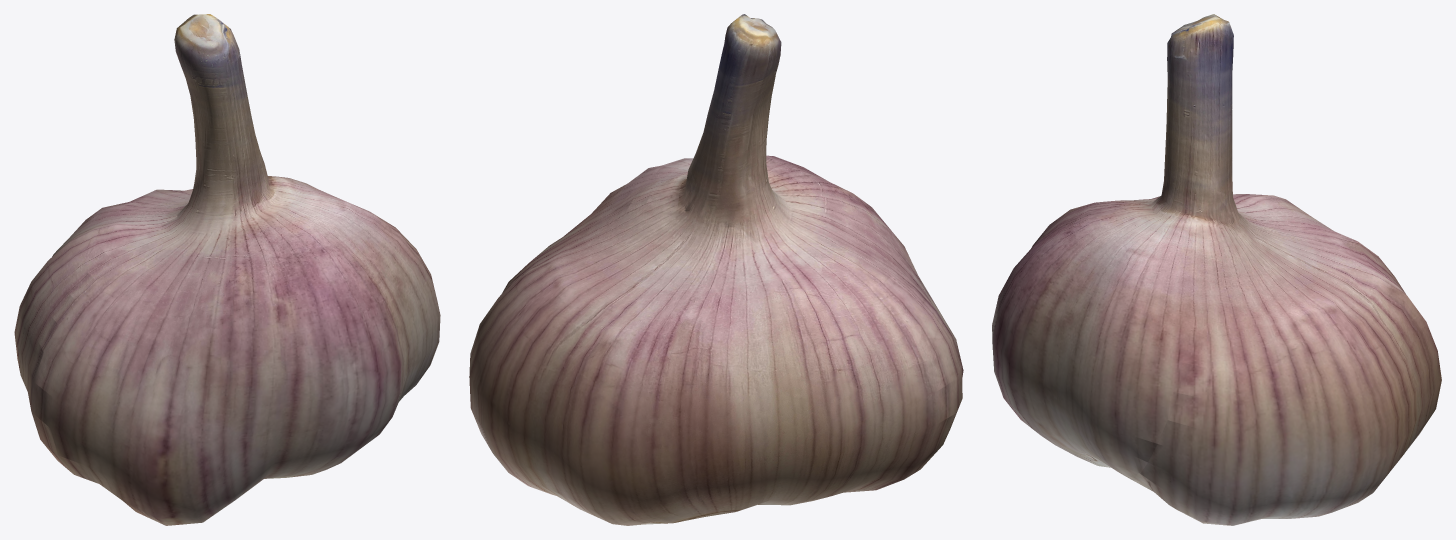
Rendered from Garlic.fbx.
3 views of the same model, side by side, from view 1: azimuth 30°, elevation 25°; view 2: azimuth 150°, elevation 25°; view 3: azimuth 270°, elevation 25° (orthographic). The views are drawn at different scales.
Parts seen in each view (by area): view 1: Garlic; view 2: Garlic; view 3: Garlic.
Boxes of the visible parts, <box> form: Garlic: <box>14,14,440,525</box>; Garlic: <box>469,14,963,525</box>; Garlic: <box>992,14,1441,525</box>.
Size of the model in its own units: 5936 by 6285 by 5763.
1 material, 1 textured.
